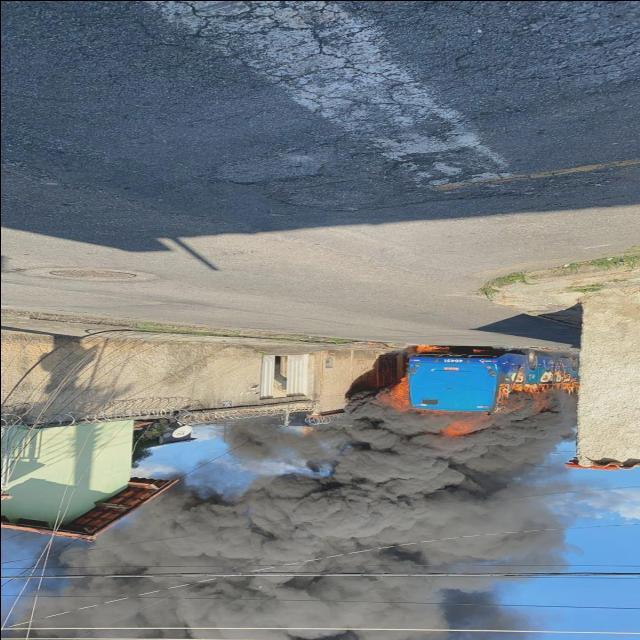Fire: (387, 376, 418, 412), (496, 383, 546, 395), (556, 375, 578, 393), (414, 344, 448, 352)
